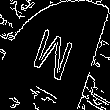M_SW: (31, 22, 79, 88)
